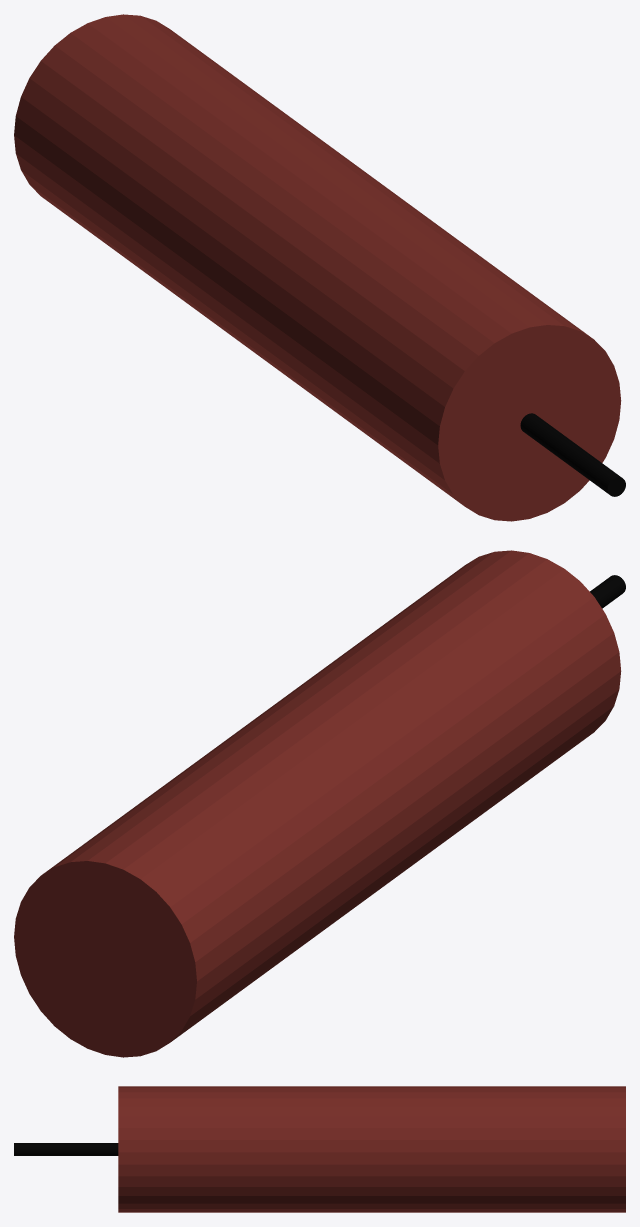
Rendered from dynamiteGUN.fbx.
3 views of the same model, one above another, from view 1: azimuth 30°, elevation 25°; view 2: azimuth 150°, elevation 25°; view 3: azimuth 270°, elevation 25° (orthographic). The views are drawn at different scales.
Visible parts, largest first — view 1: Cylinder, Cylinder.001; view 2: Cylinder, Cylinder.001; view 3: Cylinder, Cylinder.001.
Part boxes in pixels (box(x1,y1,x2,y2)): Cylinder: box(14, 14, 621, 521); Cylinder.001: box(520, 413, 625, 496); Cylinder: box(14, 550, 621, 1057); Cylinder.001: box(590, 575, 625, 608); Cylinder: box(118, 1086, 625, 1212); Cylinder.001: box(14, 1143, 118, 1155).
Bounding box in the file's own units: 2 × 2 × 9.68.
